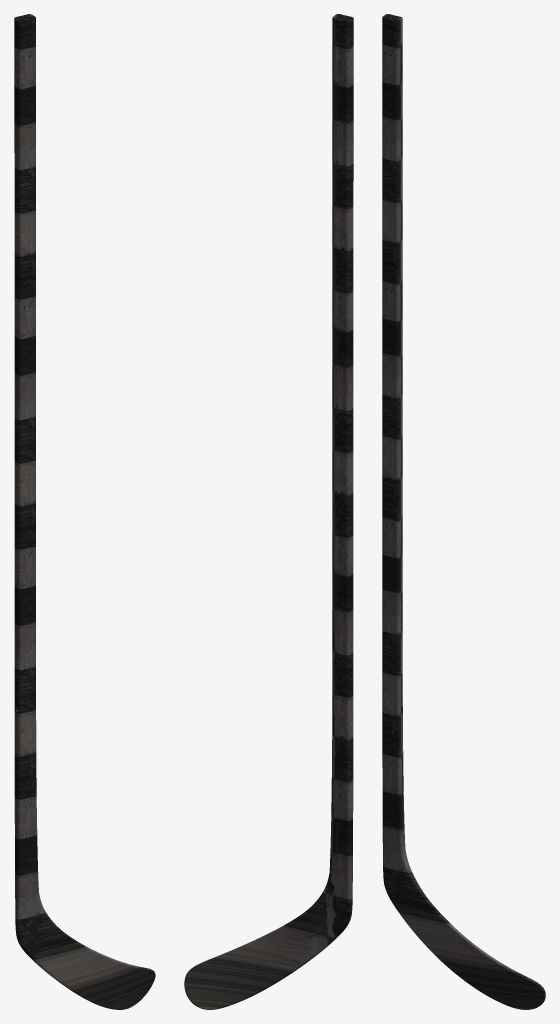
3 renders of one model, left to right at view 1: azimuth 30°, elevation 25°; view 2: azimuth 150°, elevation 25°; view 3: azimuth 330°, elevation 25°, orthographic. The views are drawn at different scales.
Parts seen in each view (by area): view 1: geometry_0; view 2: geometry_0; view 3: geometry_0.
Part boxes in pixels (bbox=[...]): geometry_0: bbox=[14, 14, 155, 1009]; geometry_0: bbox=[184, 14, 353, 1009]; geometry_0: bbox=[382, 14, 545, 1009].
Bounding box in the file's own units: 259 × 1650 × 65.59.
1 material, 1 textured.
